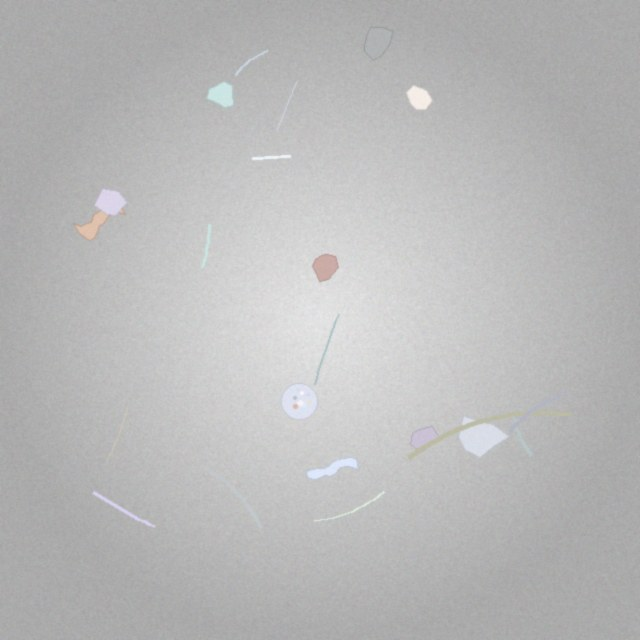fiber: (403, 408, 575, 464), (197, 462, 264, 531), (507, 390, 570, 435), (91, 489, 158, 530), (312, 490, 386, 524), (312, 312, 341, 387), (106, 406, 129, 462), (276, 80, 299, 132), (232, 49, 271, 78), (511, 413, 535, 460), (199, 222, 212, 271), (250, 153, 294, 162)
film: (73, 202, 125, 241), (307, 458, 358, 479)
foam: (281, 384, 318, 420)
fragment: (459, 415, 509, 457), (365, 27, 394, 60), (94, 189, 128, 216), (410, 426, 438, 453), (206, 81, 233, 108), (312, 255, 338, 282), (407, 86, 432, 110)
